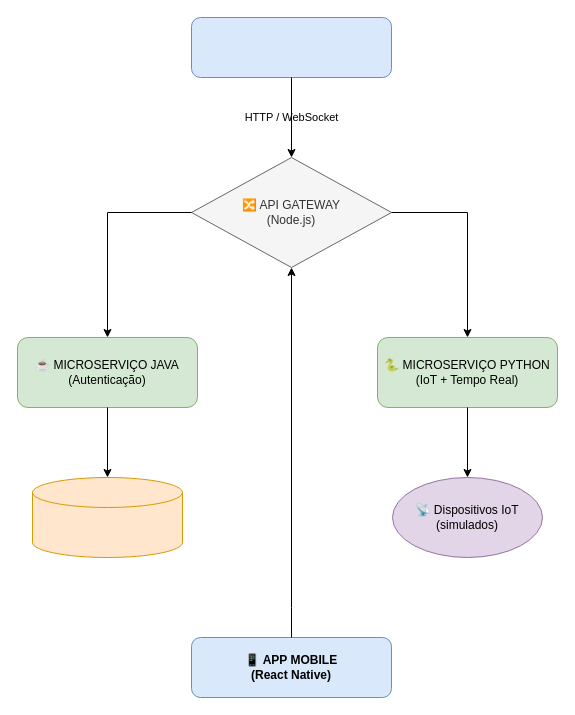
This 575x715 diagram has some shape labels left out. Here are the shapes that lost their labels. From the top down, the centre of each, then its label:
At (x=291, y=47): "🌐 FRONTEND WEB (HTML, CSS, JS)".
At (x=107, y=517): "🗄 PostgreSQL (Banco de usuários)".
